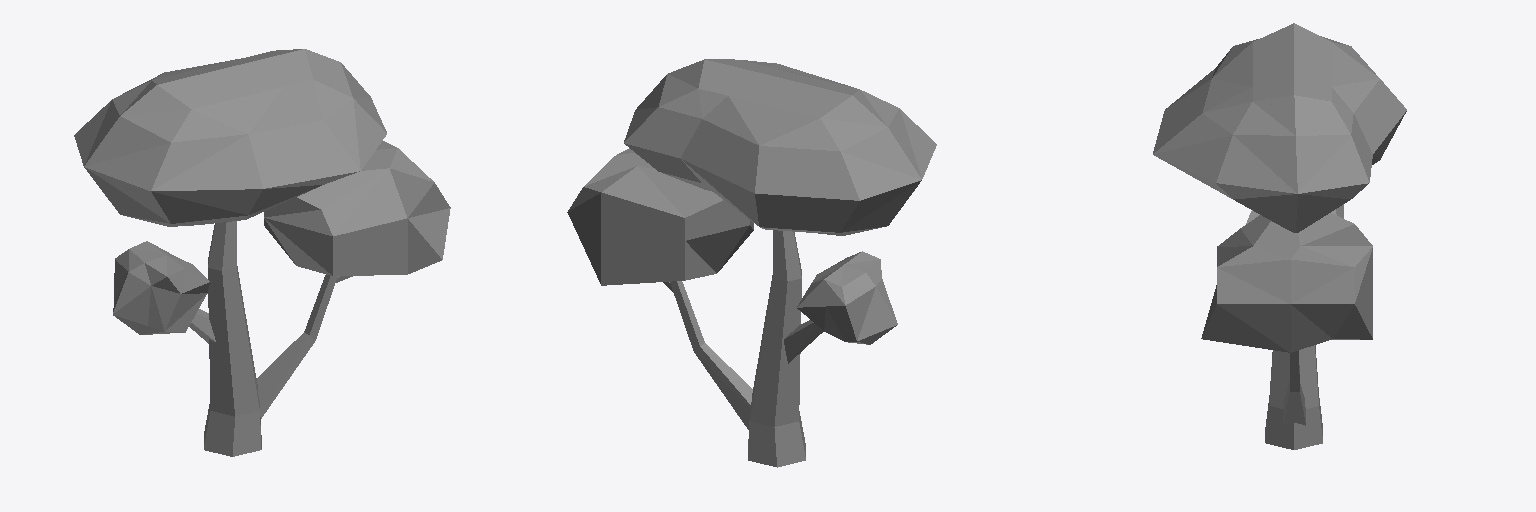
File: tree_02.obj
The picture shows the model from 3 angles: view 1: azimuth 30°, elevation 25°; view 2: azimuth 150°, elevation 25°; view 3: azimuth 270°, elevation 25°; orthographic projection.
Size of the model in its own units: 4.06 by 4.48 by 2.75.